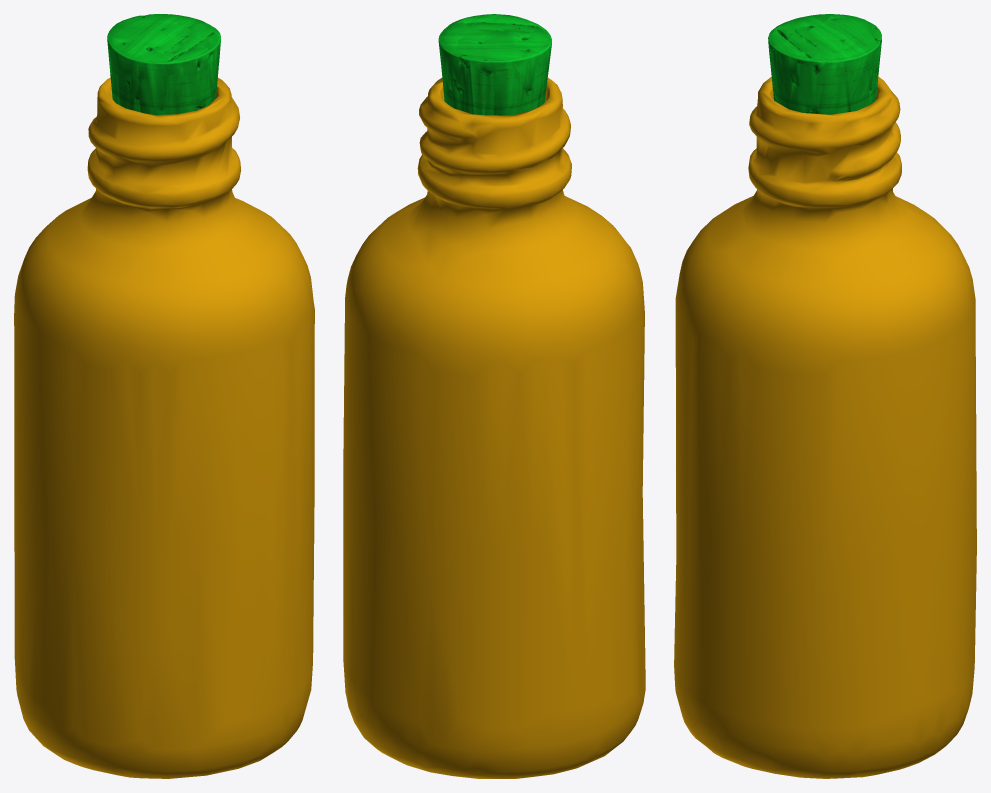
File: SR-misc_bottle_corked_a01.glb
3 renders of one model, left to right at view 1: azimuth 30°, elevation 25°; view 2: azimuth 150°, elevation 25°; view 3: azimuth 270°, elevation 25°, orthographic.
Parts seen in each view (by area): view 1: body_01_mesh_00, object 2; view 2: body_01_mesh_00, object 2; view 3: body_01_mesh_00, object 2.
Part boxes in pixels (bbox=[...]): body_01_mesh_00: bbox=[14, 77, 314, 778]; object 2: bbox=[107, 14, 220, 114]; body_01_mesh_00: bbox=[343, 78, 645, 778]; object 2: bbox=[438, 14, 551, 115]; body_01_mesh_00: bbox=[674, 76, 976, 778]; object 2: bbox=[768, 14, 881, 114].
Size of the model in its own units: 0.0402 by 0.1009 by 0.0402.
2 materials, 1 textured.
